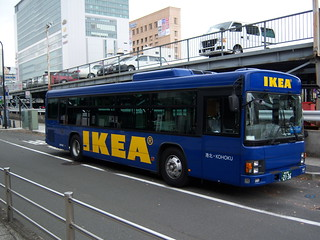bus: (42, 68, 305, 187)
van: (197, 20, 278, 57)
